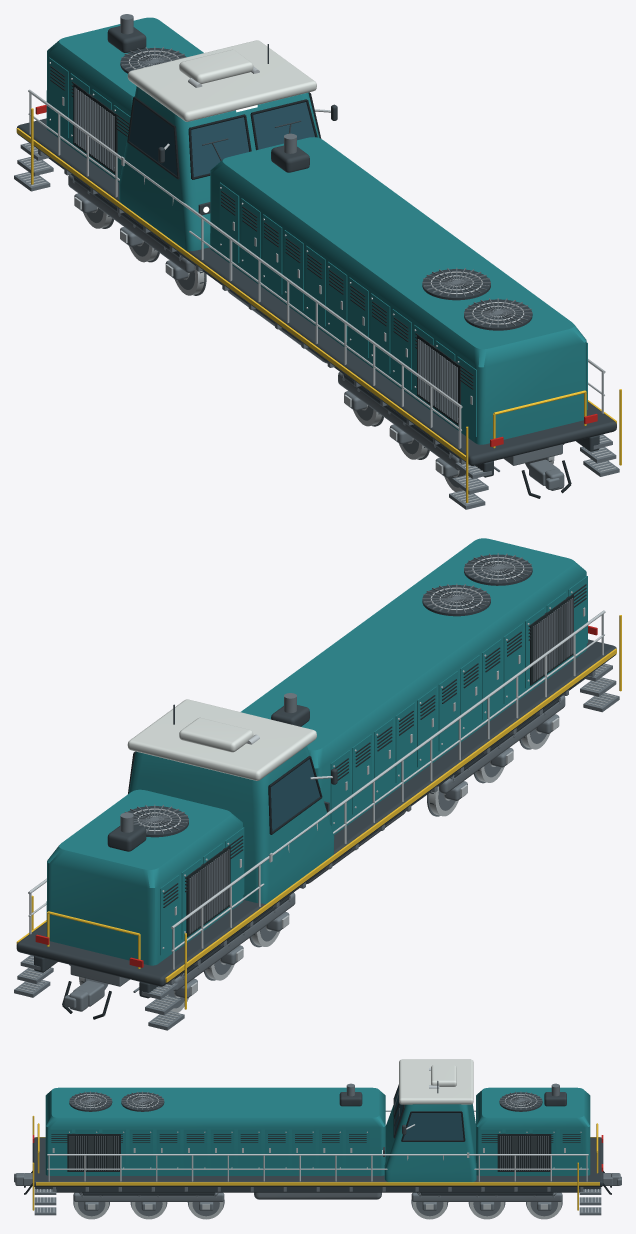
File: diesel_shunter_6axle.glb
3 renders of one model, top to bottom at view 1: azimuth 30°, elevation 25°; view 2: azimuth 150°, elevation 25°; view 3: azimuth 270°, elevation 25°, orthographic. The views are drawn at different scales.
Visible parts, largest first — view 1: engine_hood, hood_panels, walkway_deck, cab_shell, cab_roof, walkway_handrails, cab_glazing, roof_fans, access_steps, cab_details, bogie_1_frame, bogie_0_frame (+4 smaller); view 2: engine_hood, hood_panels, walkway_deck, cab_shell, cab_roof, walkway_handrails, roof_fans, access_steps, cab_glazing, bogie_0_frame, bogie_1_frame, underframe (+3 smaller); view 3: engine_hood, hood_panels, walkway_deck, cab_shell, underframe, walkway_handrails, cab_roof, roof_fans, cab_details, bogie_0_frame, bogie_1_frame, access_steps (+11 smaller).
Part boxes in pixels (box(x1,y1,x2,y2)): engine_hood: box(46, 17, 586, 444); hood_panels: box(49, 57, 587, 436); walkway_deck: box(16, 118, 616, 465); cab_shell: box(119, 86, 319, 251); cab_roof: box(127, 40, 316, 121); walkway_handrails: box(28, 89, 605, 448); cab_glazing: box(127, 96, 251, 179); roof_fans: box(120, 46, 532, 330); access_steps: box(14, 108, 621, 509); cab_details: box(121, 92, 337, 166); bogie_1_frame: box(68, 174, 203, 283); bogie_0_frame: box(338, 372, 564, 477); engine_hood: box(46, 538, 586, 965); hood_panels: box(160, 576, 587, 955); walkway_deck: box(16, 639, 616, 986); cab_shell: box(129, 746, 334, 903); cab_roof: box(127, 699, 316, 780); walkway_handrails: box(28, 610, 605, 969); roof_fans: box(124, 553, 532, 837); access_steps: box(14, 615, 621, 1030); cab_glazing: box(268, 756, 322, 834); bogie_0_frame: box(430, 695, 565, 804); bogie_1_frame: box(69, 892, 295, 998); underframe: box(34, 670, 595, 998); engine_hood: box(45, 1087, 590, 1175); hood_panels: box(48, 1129, 583, 1171); walkway_deck: box(32, 1137, 603, 1186); cab_shell: box(384, 1104, 476, 1182); underframe: box(35, 1187, 600, 1192); walkway_handrails: box(37, 1110, 598, 1181); cab_roof: box(399, 1059, 473, 1104); roof_fans: box(69, 1091, 542, 1111); cab_details: box(393, 1090, 469, 1157); bogie_0_frame: box(73, 1192, 224, 1210); bogie_1_frame: box(411, 1192, 562, 1210); access_steps: box(32, 1115, 601, 1215).
Size of the model in its own units: 3.71 by 4.47 by 17.52.
